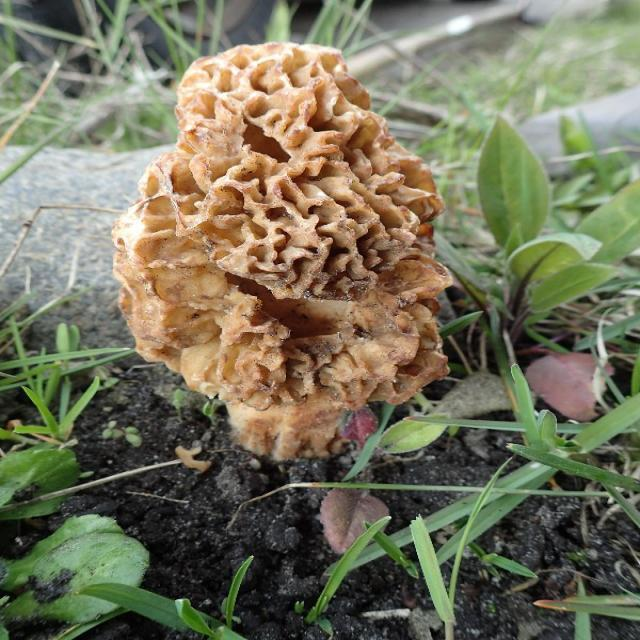Morchella esculenta: (112, 43, 453, 456)
